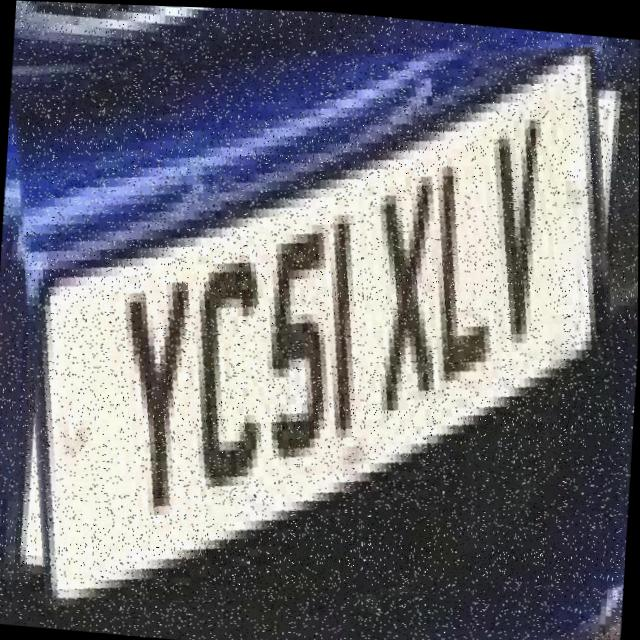LicensePlate: (0, 12, 640, 636)
